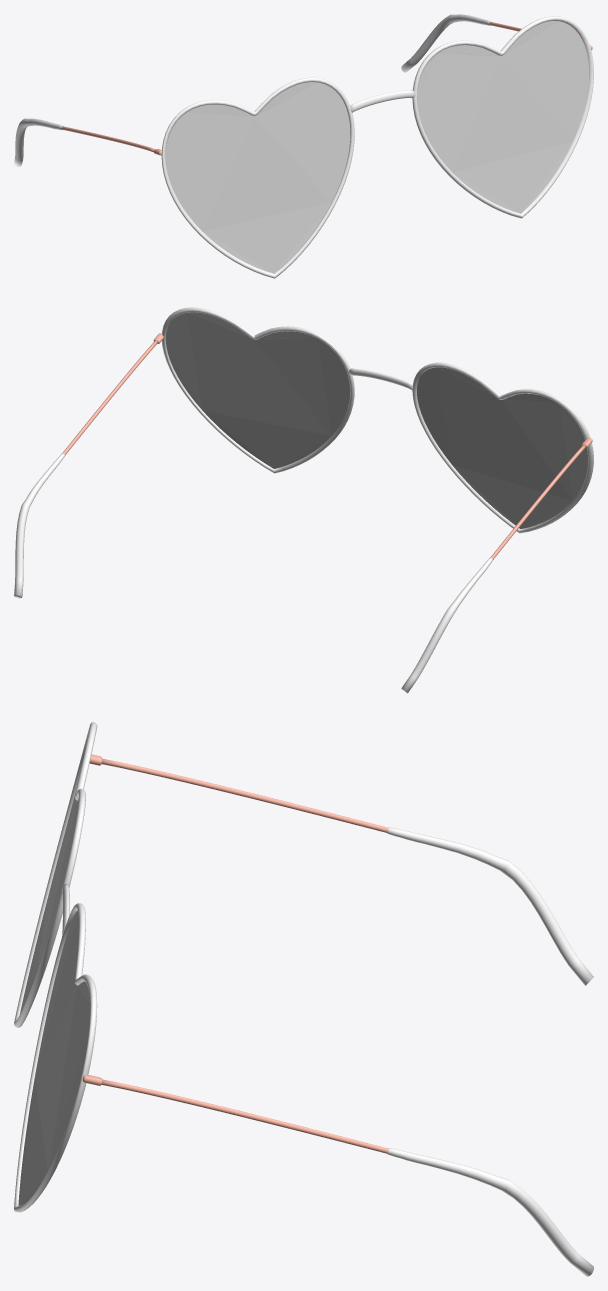
File: coeur.glb
3 renders of one model, top to bottom at view 1: azimuth 30°, elevation 25°; view 2: azimuth 150°, elevation 25°; view 3: azimuth 270°, elevation 25°, orthographic. The views are drawn at different scales.
Visible parts, largest first — view 1: Circle.002, Cylinder, BezierCurve, Cylinder.001; view 2: Circle.002, Cylinder, BezierCurve, Cylinder.001; view 3: Circle.002, Cylinder, BezierCurve, Cylinder.001.
Part boxes in pixels (bbox=[...]): Circle.002: bbox=[165, 21, 589, 273]; Cylinder: bbox=[161, 16, 593, 278]; BezierCurve: bbox=[14, 14, 491, 166]; Cylinder.001: bbox=[61, 22, 521, 152]; Circle.002: bbox=[165, 312, 587, 529]; Cylinder: bbox=[162, 307, 593, 533]; BezierCurve: bbox=[14, 453, 492, 693]; Cylinder.001: bbox=[62, 340, 585, 559]; Circle.002: bbox=[18, 796, 90, 1205]; Cylinder: bbox=[14, 722, 97, 1212]; BezierCurve: bbox=[387, 827, 593, 1276]; Cylinder.001: bbox=[101, 758, 388, 1153].
Bounding box in the file's own units: 4.73 × 1.86 × 3.56.
